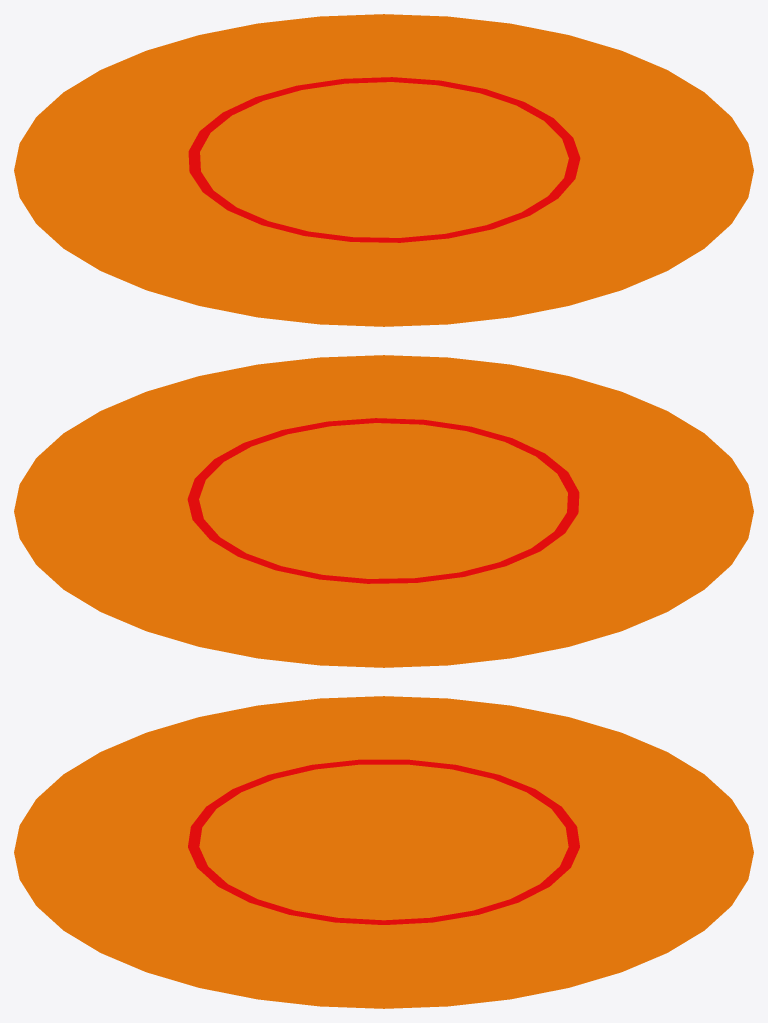
Rendered from flow_ani.fbx.
3 views of the same model, one above another, from view 1: azimuth 30°, elevation 25°; view 2: azimuth 150°, elevation 25°; view 3: azimuth 270°, elevation 25° (orthographic).
Visible parts, largest first — view 1: transform1; view 2: transform1; view 3: transform1.
Boxes of the visible parts, x1,y1,x2,y2 form: transform1: (14,14,753,326); transform1: (14,355,753,667); transform1: (14,696,753,1008).
Bounding box in the file's own units: 2 × 2 × 0.031.
